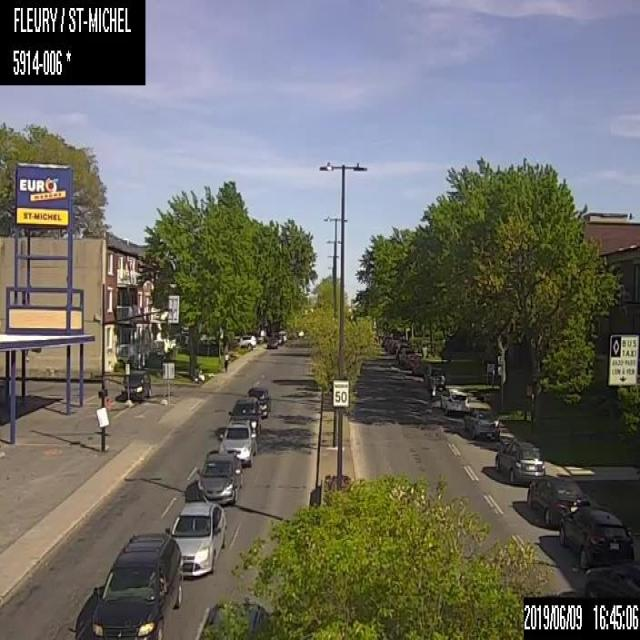pedestrian: (222, 348, 228, 372)
vehicle: (88, 530, 183, 638), (559, 504, 633, 573), (169, 498, 226, 578), (526, 471, 588, 526), (195, 448, 245, 506), (492, 434, 546, 486), (216, 421, 258, 468), (462, 403, 501, 443), (226, 396, 260, 430), (438, 384, 471, 419), (122, 366, 154, 402), (244, 384, 270, 422), (422, 362, 447, 389), (235, 334, 256, 348), (398, 346, 414, 364), (276, 328, 288, 344), (268, 336, 280, 348)
